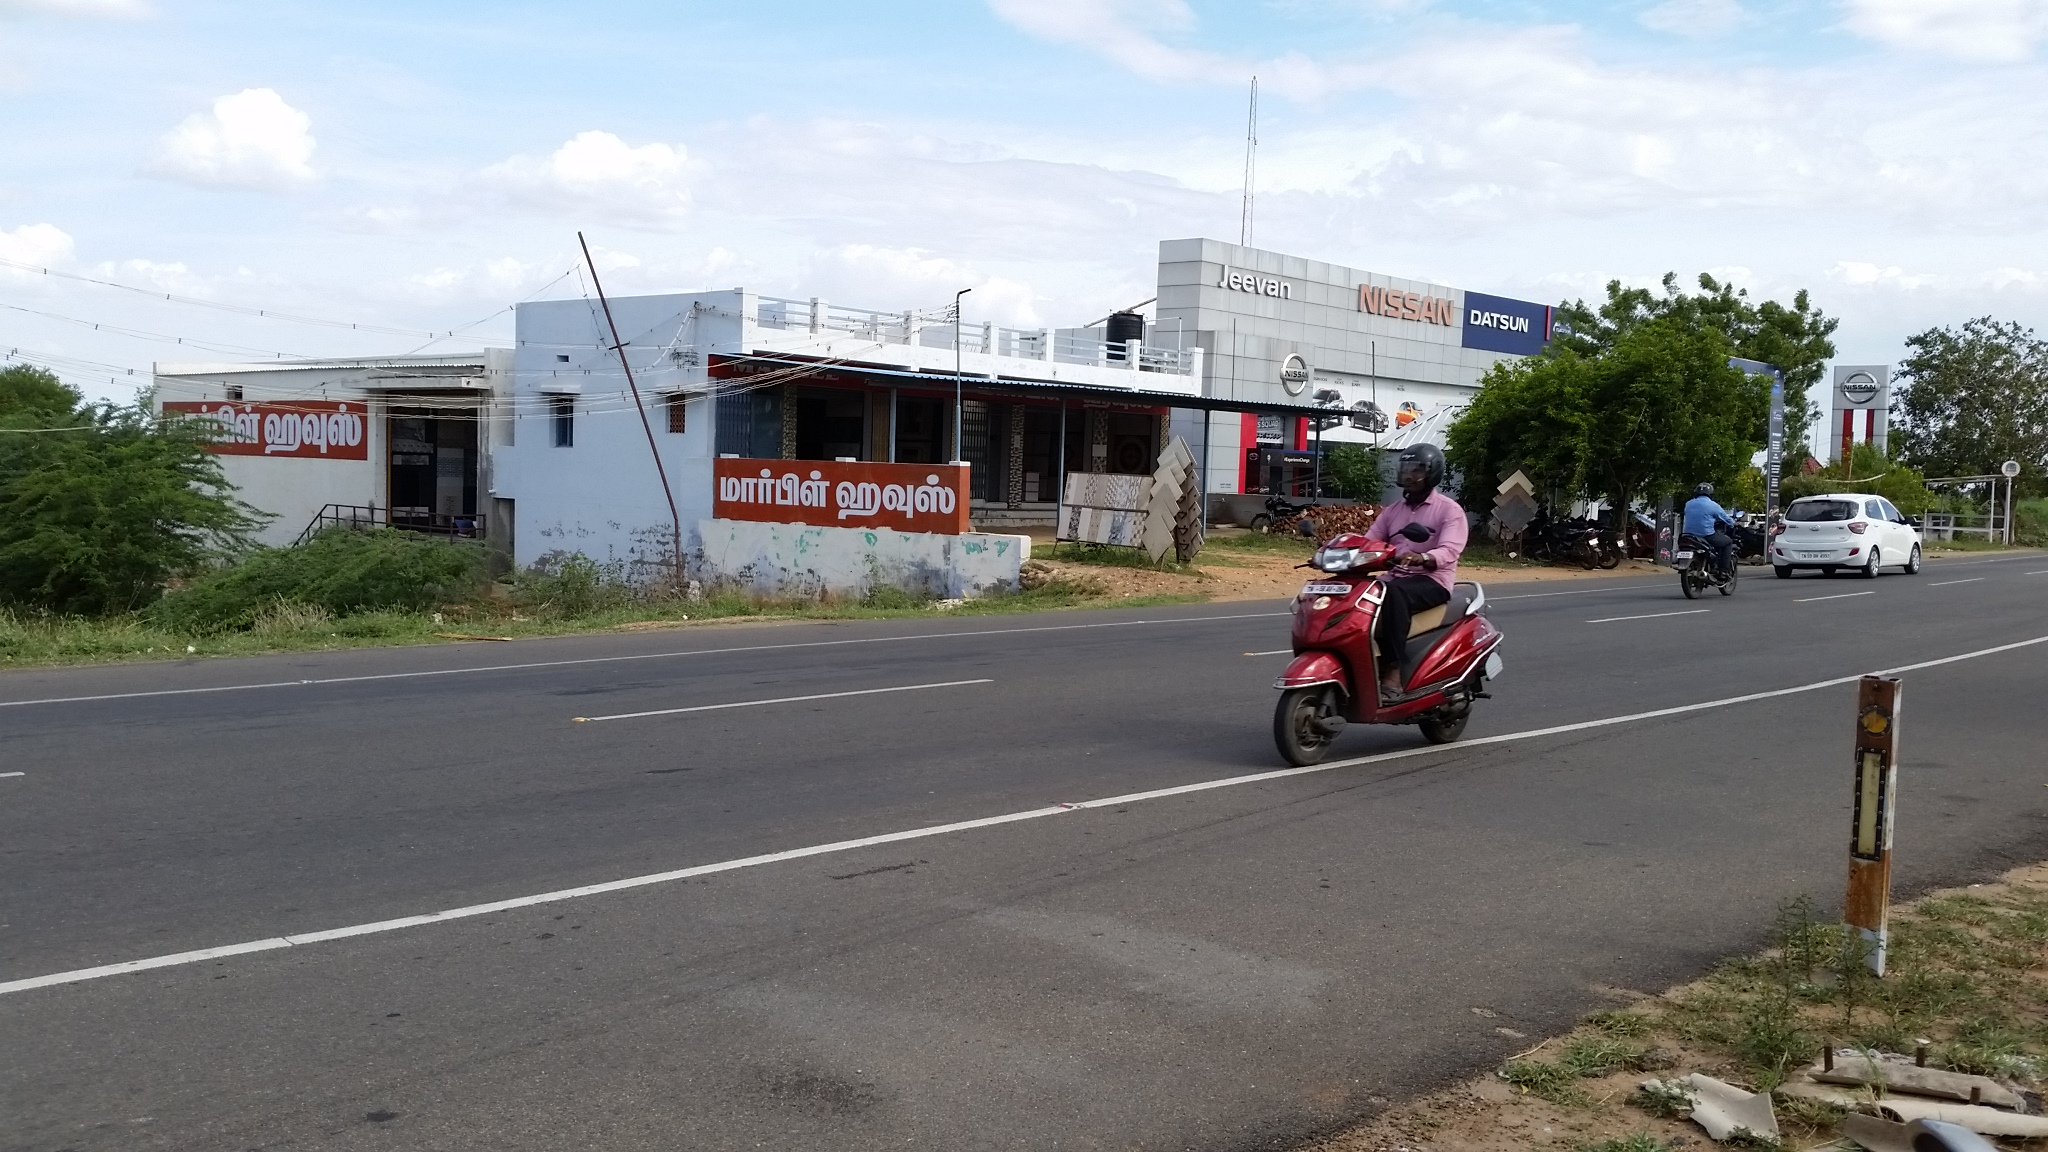biker: (1258, 388, 1527, 777), (1663, 449, 1759, 608)
helmet: (1379, 425, 1464, 514), (1691, 470, 1721, 508)
